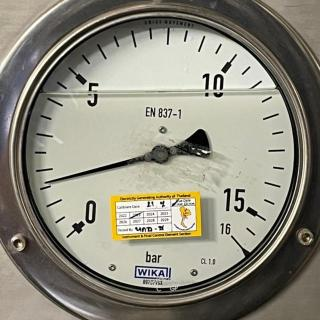gauge: (10, 6, 308, 311), (64, 207, 96, 241), (216, 222, 248, 252), (150, 143, 172, 165), (40, 177, 54, 187)
